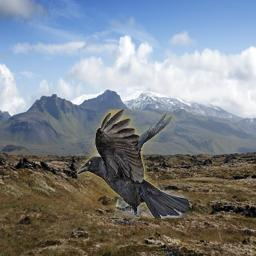Crow: (77, 109, 189, 218)
